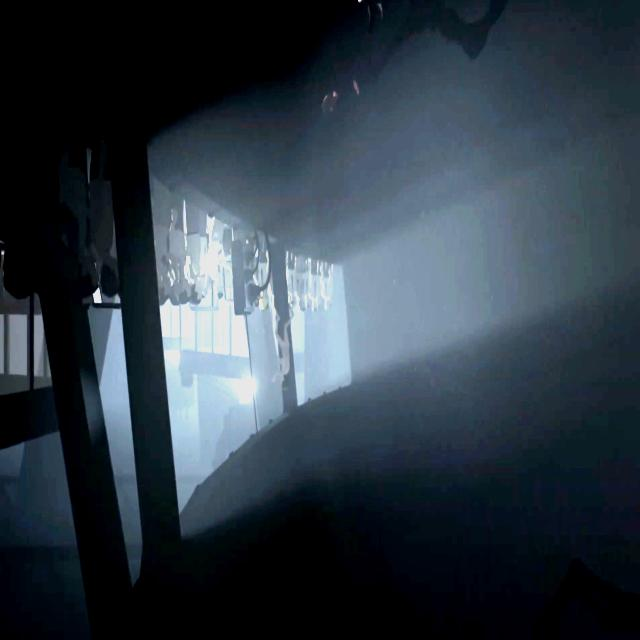boy: (273, 314, 294, 386)
human: (60, 107, 98, 298), (90, 134, 118, 296), (170, 196, 188, 303), (156, 188, 172, 302), (187, 212, 206, 306), (210, 220, 226, 298), (258, 244, 270, 313), (308, 262, 320, 313), (321, 268, 333, 313), (297, 260, 307, 314), (287, 256, 296, 307)
interactible: (231, 225, 271, 318)
mechanism: (366, 0, 506, 84)
